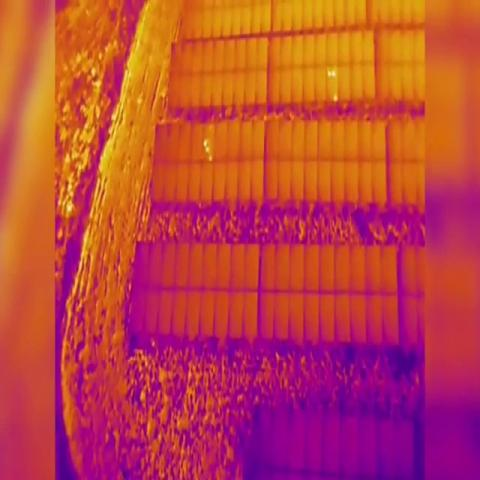fault: (332, 92, 338, 103), (202, 138, 208, 148), (205, 144, 210, 156), (327, 70, 331, 80), (331, 71, 336, 78), (209, 154, 213, 162)
